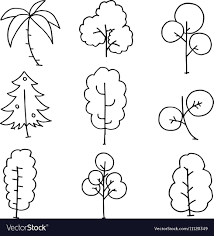tree: (75, 62, 138, 149), (153, 0, 214, 79), (0, 0, 64, 68), (72, 0, 147, 57), (77, 146, 132, 219), (0, 68, 55, 141), (159, 146, 214, 218), (155, 87, 214, 146), (0, 146, 47, 219)
